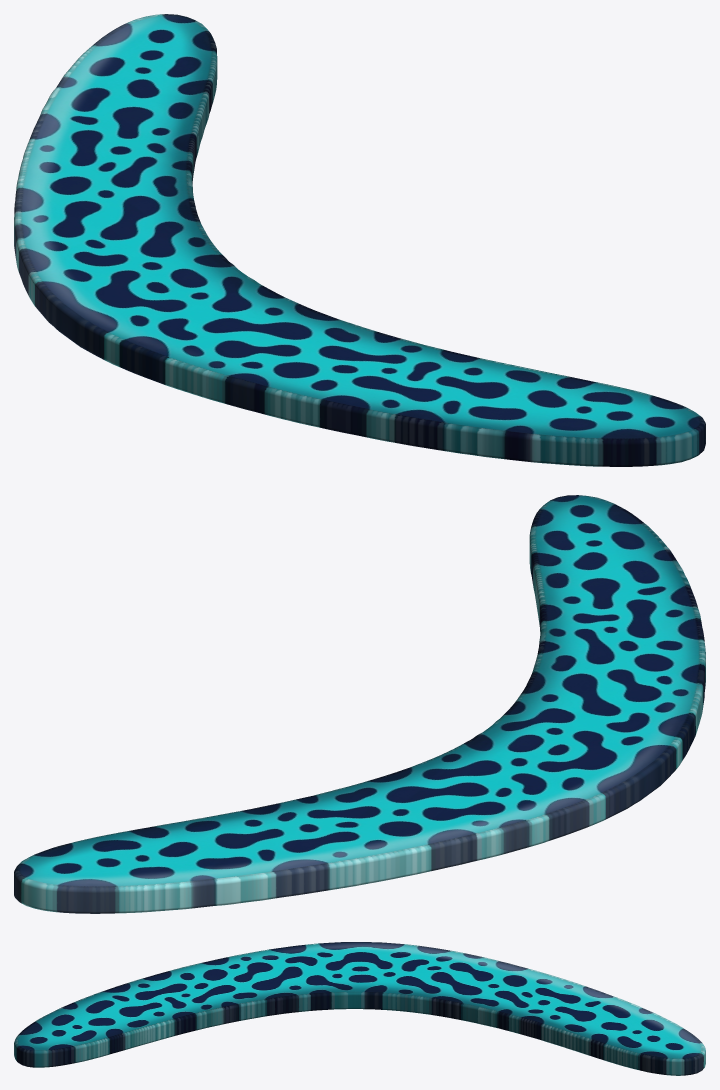
The model's file is Boomerang_23.fbx.
3 views of the same model, one above another, from view 1: azimuth 30°, elevation 25°; view 2: azimuth 150°, elevation 25°; view 3: azimuth 270°, elevation 25° (orthographic). The views are drawn at different scales.
Visible parts, largest first — view 1: Boomerang_23; view 2: Boomerang_23; view 3: Boomerang_23.
Part boxes in pixels (bbox=[...]): Boomerang_23: bbox=[14, 14, 705, 466]; Boomerang_23: bbox=[14, 495, 705, 913]; Boomerang_23: bbox=[14, 942, 705, 1075].
Bounding box in the file's own units: 77.26 × 5 × 190.
Materials: 1 (1 with a texture image).
